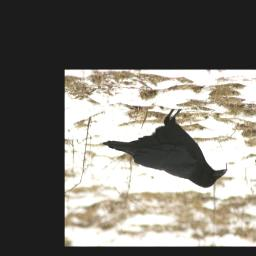Crow: (103, 106, 231, 193)
